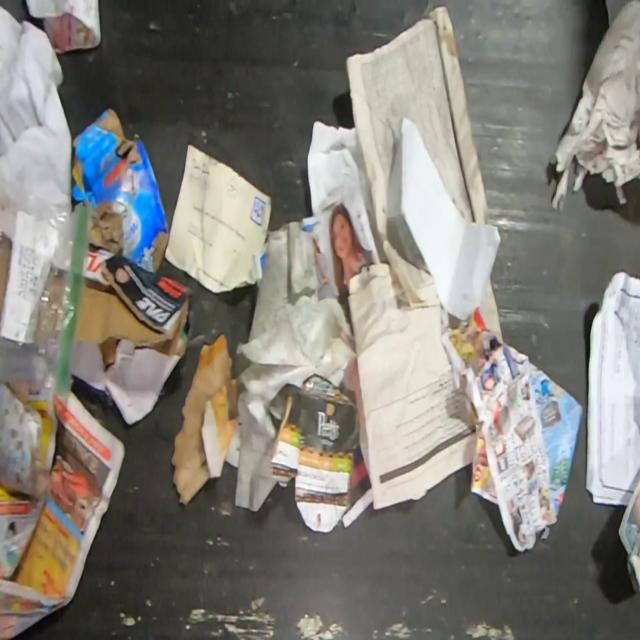cardboard: (70, 240, 192, 425), (71, 106, 169, 272), (270, 374, 358, 532), (0, 380, 58, 496)
soft_plastic: (0, 180, 89, 398)
